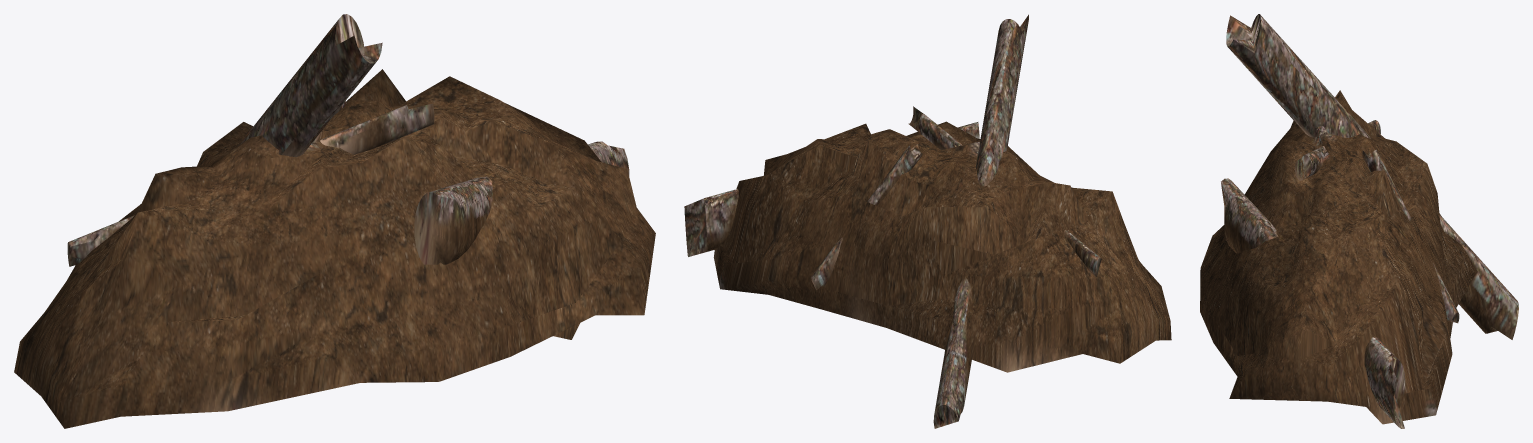
File: rubble01.fbx
3 views of the same model, side by side, from view 1: azimuth 30°, elevation 25°; view 2: azimuth 150°, elevation 25°; view 3: azimuth 270°, elevation 25° (orthographic). The views are drawn at different scales.
Visible parts, largest first — view 1: pSphere2; view 2: pSphere2; view 3: pSphere2.
Boxes of the visible parts, box(x1,y1,x2,y2) form: pSphere2: box(14, 14, 655, 428); pSphere2: box(684, 14, 1171, 428); pSphere2: box(1200, 14, 1518, 428).
Bounding box in the file's own units: 1783 × 1212 × 1009.
Materials: 1 (1 with a texture image).
